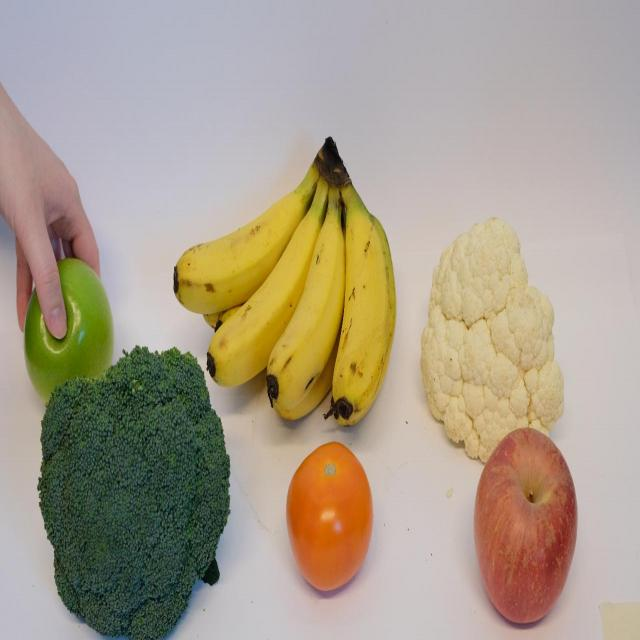apple: (473, 424, 579, 626), (23, 256, 114, 405)
banana: (207, 203, 326, 384), (168, 185, 306, 311), (266, 216, 346, 408), (332, 198, 394, 426)
broccoli: (34, 342, 230, 639)
cauliflower: (419, 216, 565, 465)
tomato: (286, 438, 374, 592)
